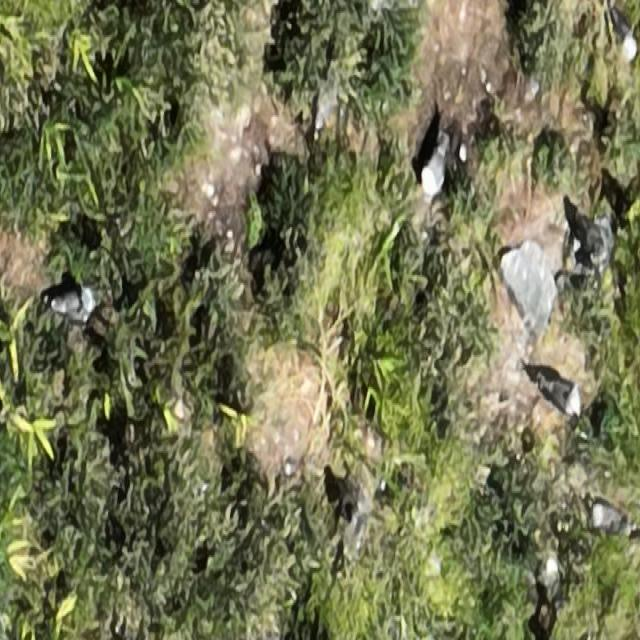umineko: (538, 370, 580, 416), (421, 137, 449, 199), (610, 3, 637, 59), (54, 287, 96, 319), (591, 501, 631, 532)
